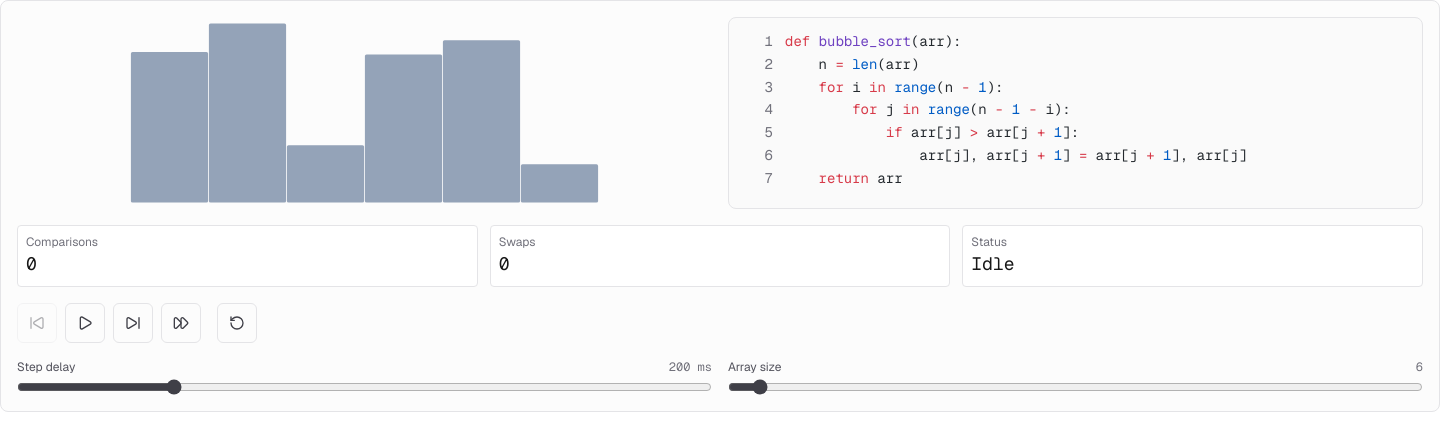
Scenario: SortingViz › step forward advances comparison counter
Click the button named "Step forward" at (133, 323), box [113,303,153,343]
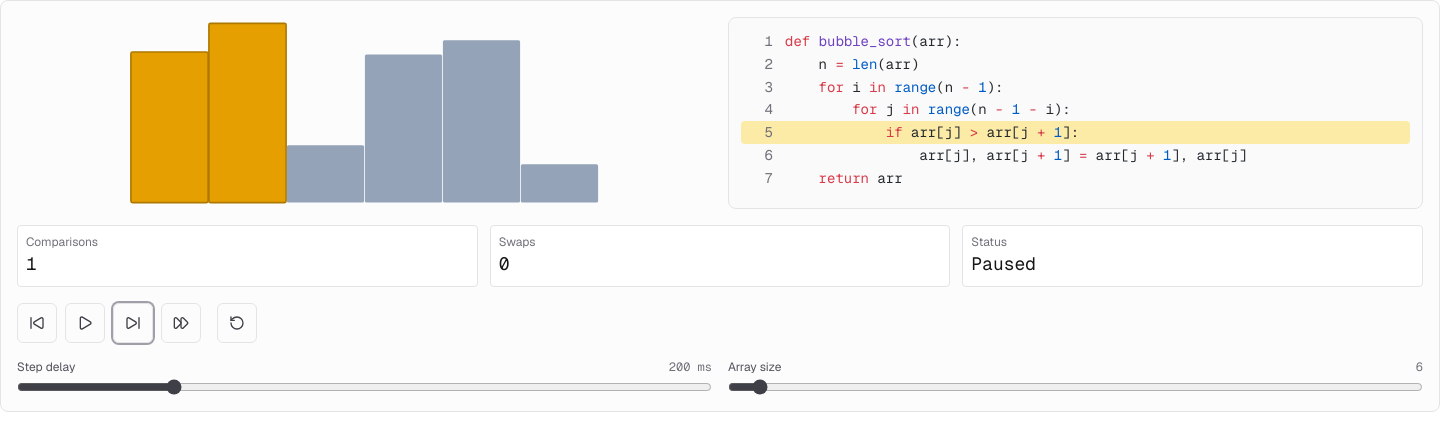
Now the text "Comparisons 1 Swaps 0 Status paused" is shown, box [17,225,1423,287]
